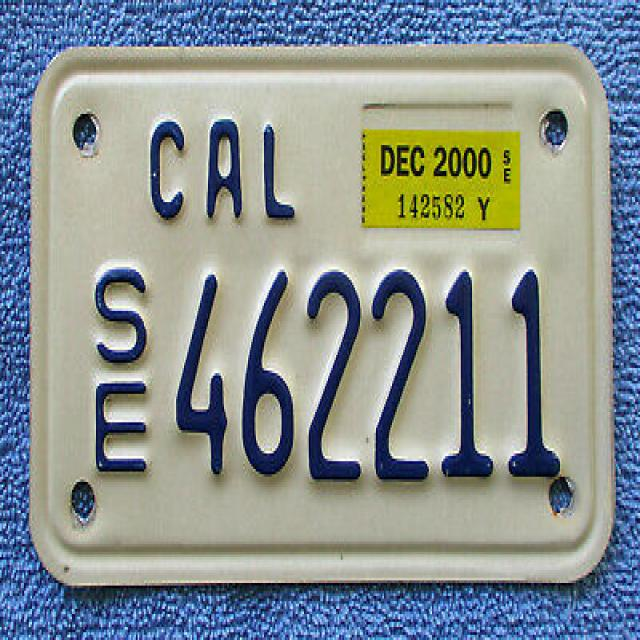placa: (165, 238, 598, 501)
